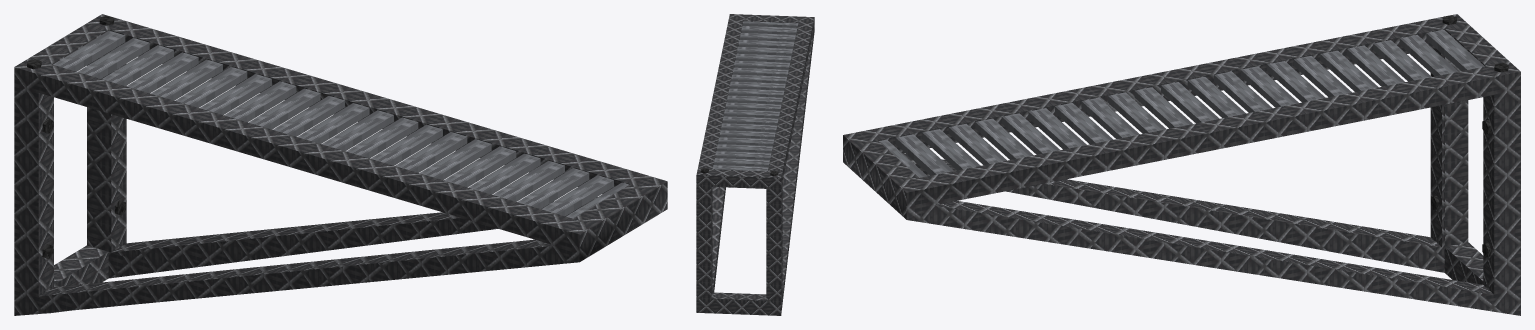
The model's file is BridgeLedge.fbx.
3 renders of one model, left to right at view 1: azimuth 30°, elevation 25°; view 2: azimuth 150°, elevation 25°; view 3: azimuth 270°, elevation 25°, orthographic. The views are drawn at different scales.
Parts seen in each view (by area): view 1: ledge.004, steps; view 2: ledge.004, steps; view 3: ledge.004, steps.
Part boxes in pixels (left/top/right/bottom): ledge.004: left=14, top=14, right=667, bottom=315; steps: left=53, top=30, right=628, bottom=218; ledge.004: left=696, top=14, right=814, bottom=315; steps: left=712, top=21, right=798, bottom=171; ledge.004: left=843, top=14, right=1520, bottom=315; steps: left=879, top=29, right=1484, bottom=177.
Bounding box in the file's own units: 1404 × 907 × 2250.
